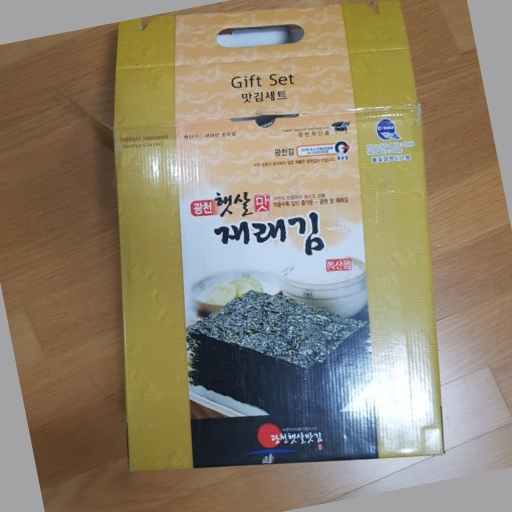Paper_0: (107, 1, 453, 477)
